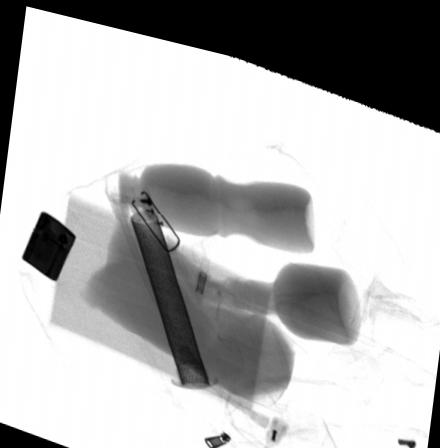Lighter: (21, 210, 76, 279)
